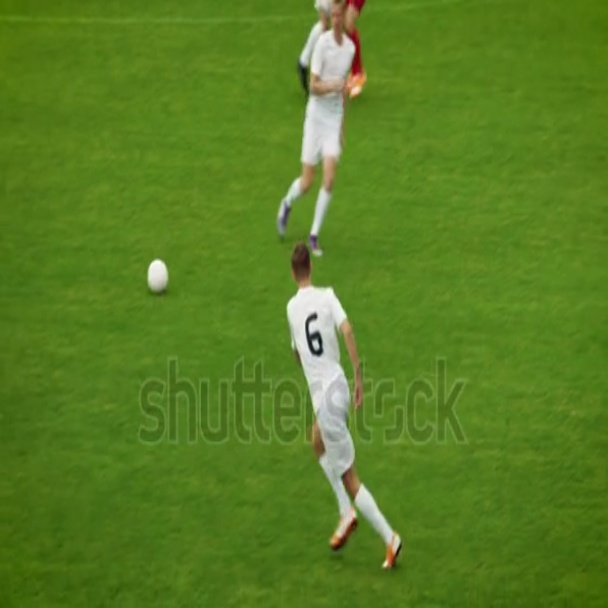ball: (149, 257, 167, 287)
